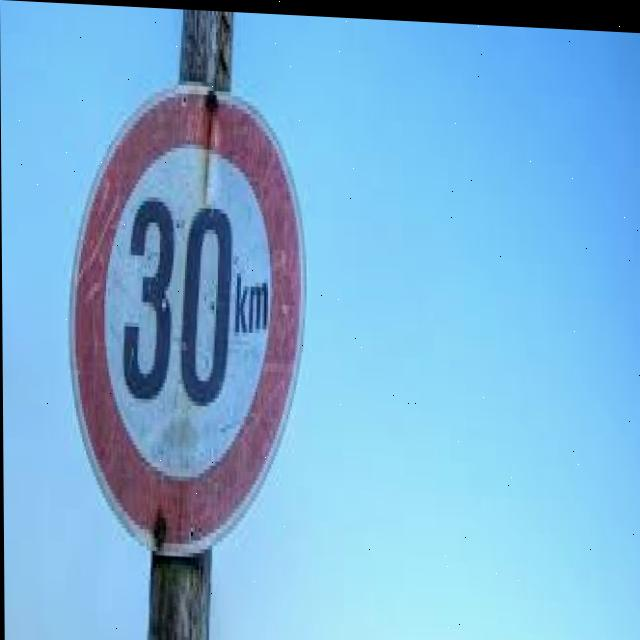Speed limit 30: (65, 71, 311, 561)
